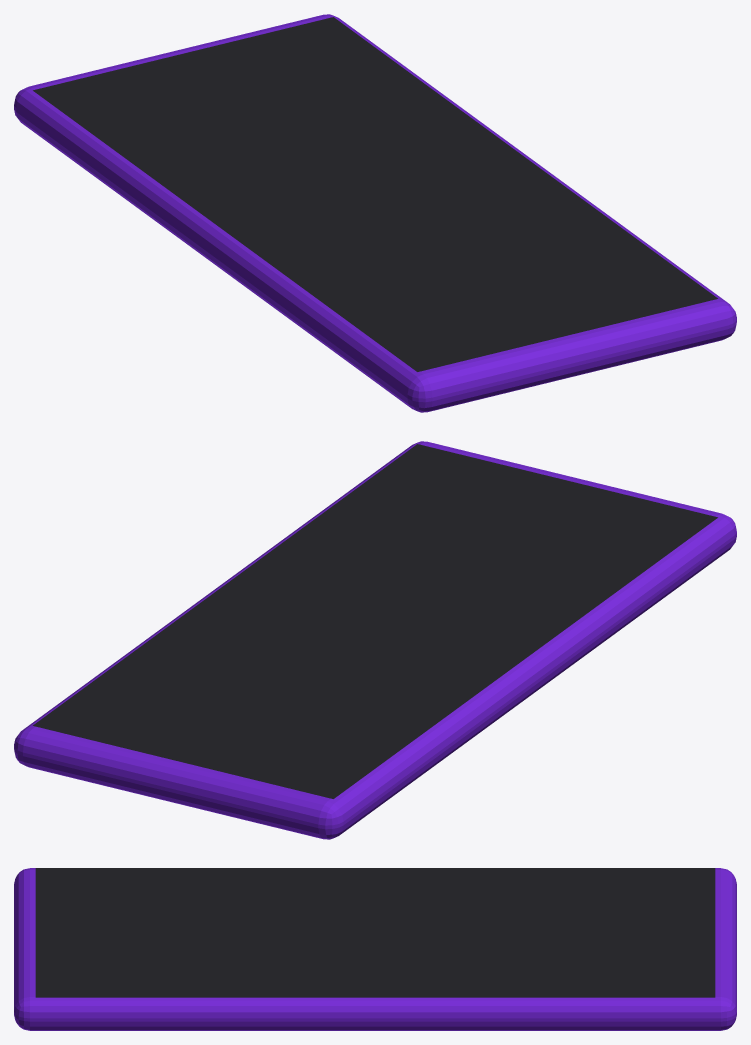
The model's file is tecno-pova-model-425-mid-range-2024.glb.
The picture shows the model from 3 angles, top to bottom: view 1: azimuth 30°, elevation 25°; view 2: azimuth 150°, elevation 25°; view 3: azimuth 270°, elevation 25°; orthographic projection. The views are drawn at different scales.
Visible parts, largest first — view 1: Phone_Screen, Phone_Body; view 2: Phone_Screen, Phone_Body; view 3: Phone_Screen, Phone_Body.
Boxes of the visible parts, x1,y1,x2,y2 form: Phone_Screen: (33, 17, 717, 371); Phone_Body: (14, 14, 736, 412); Phone_Screen: (33, 444, 717, 798); Phone_Body: (14, 441, 736, 839); Phone_Screen: (35, 868, 715, 997); Phone_Body: (14, 868, 736, 1030).
Bounding box in the file's own units: 0.0762 × 0.0083 × 0.1652.
